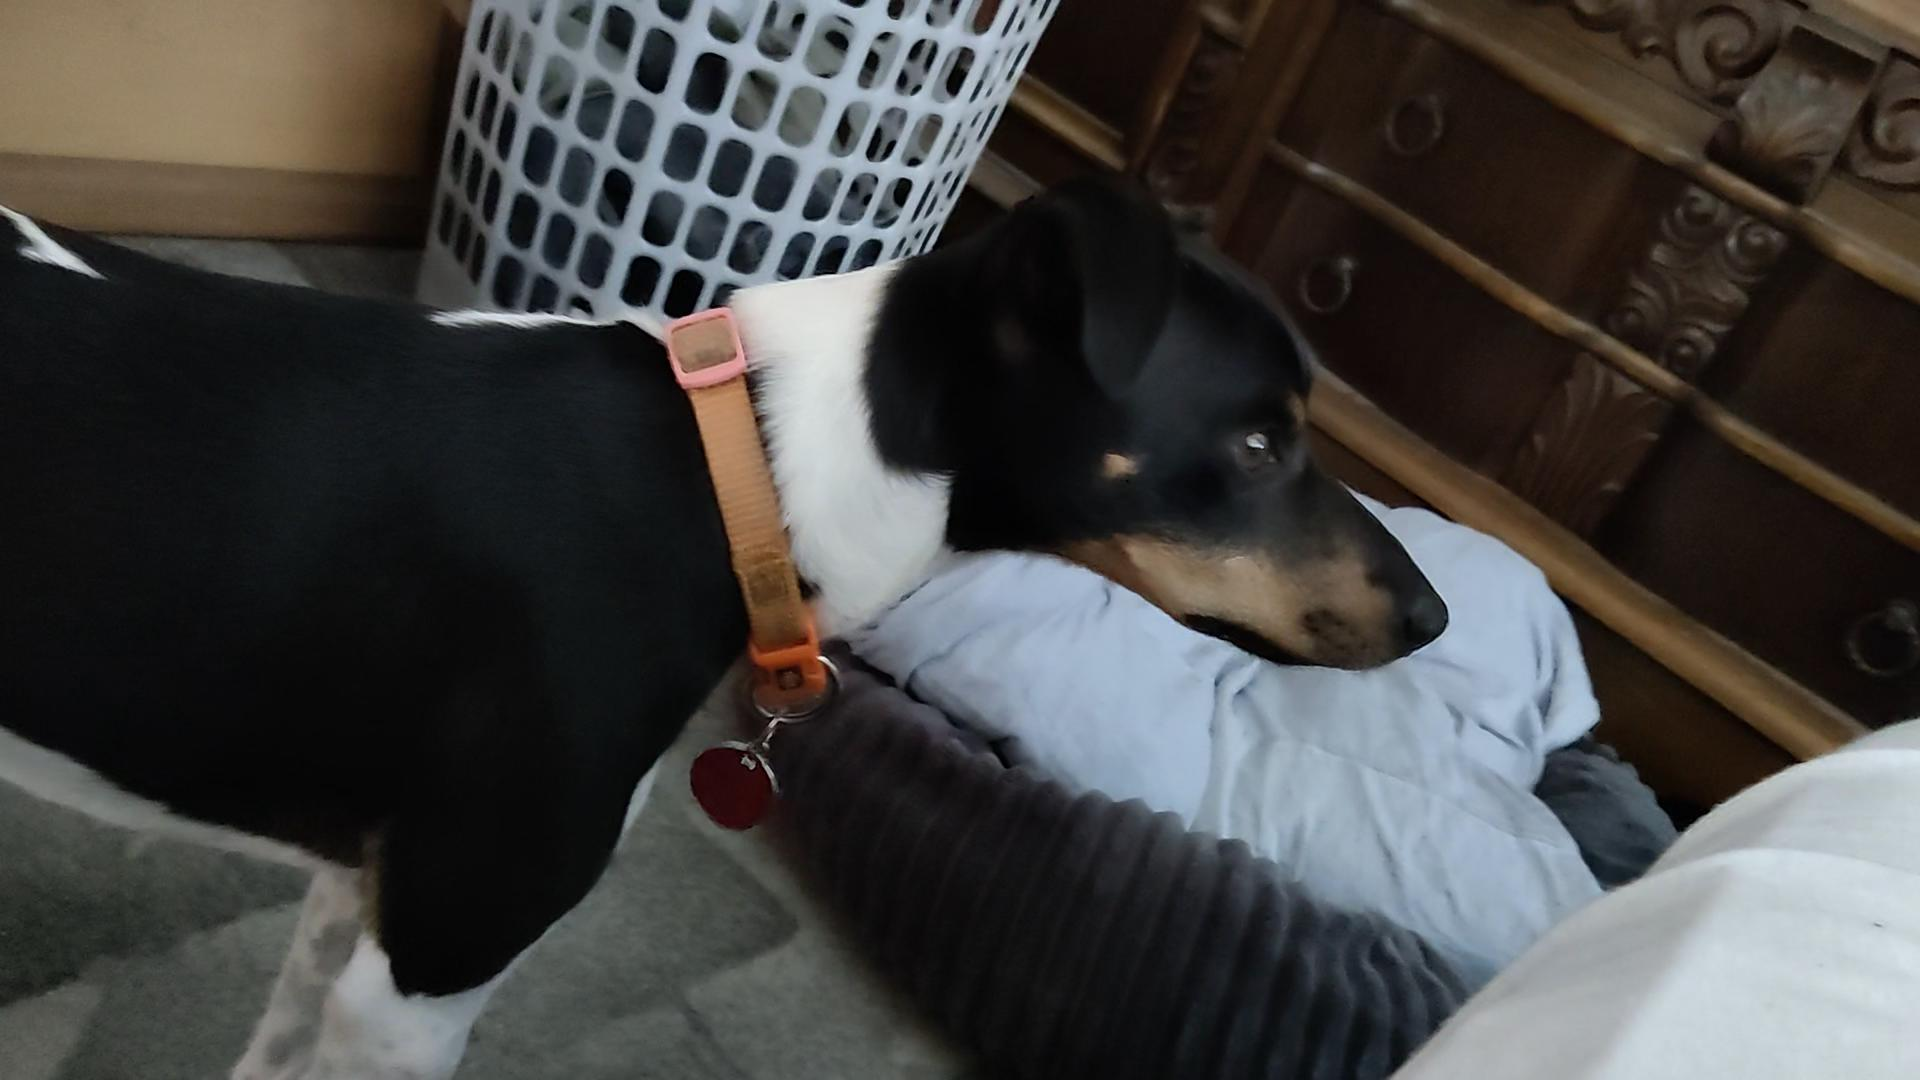Dog: (0, 158, 1460, 1079)
